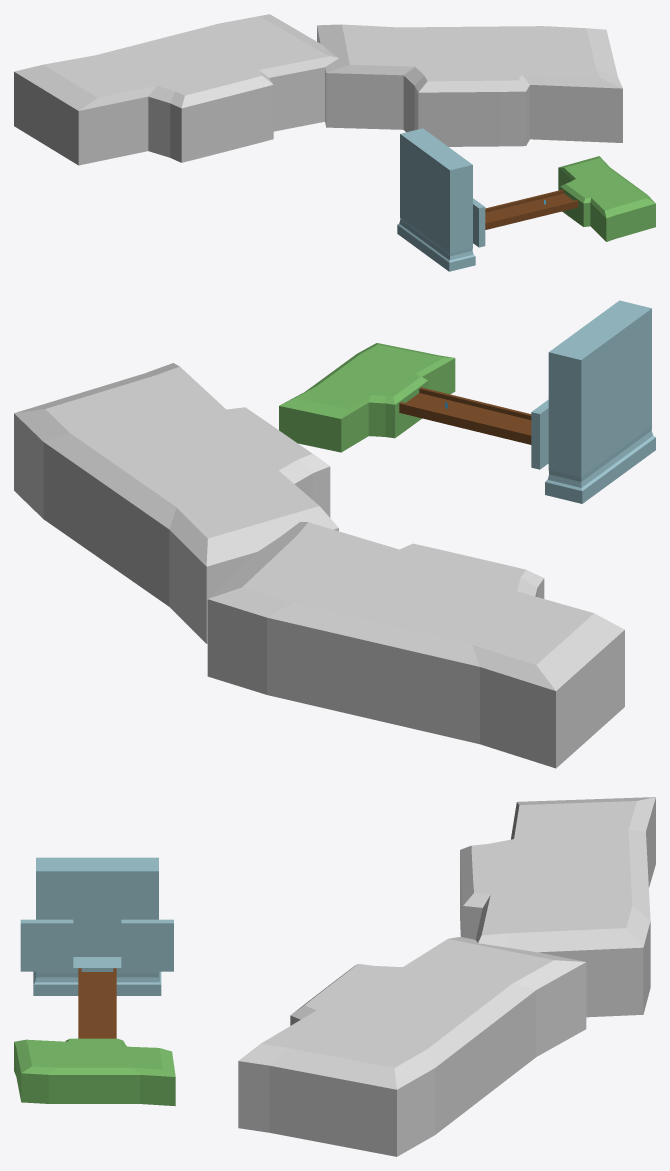
The model's file is ch1_overworld_env.glb.
3 renders of one model, top to bottom at view 1: azimuth 30°, elevation 25°; view 2: azimuth 150°, elevation 25°; view 3: azimuth 270°, elevation 25°, orthographic. The views are drawn at different scales.
Parts seen in each view (by area): view 1: BG_2, BG_1, Entrance, Land, Bridge; view 2: BG_2, BG_1, Entrance, Land, Bridge; view 3: BG_1, BG_2, Entrance, Land, Bridge.
Part boxes in pixels (bbox=[...]): BG_2: bbox=[14, 14, 338, 165]; BG_1: bbox=[317, 24, 622, 146]; Entrance: bbox=[397, 128, 485, 271]; Land: bbox=[558, 156, 655, 241]; Bridge: bbox=[485, 189, 578, 229]; BG_2: bbox=[207, 522, 624, 768]; BG_1: bbox=[14, 363, 338, 643]; Entrance: bbox=[531, 300, 655, 503]; Land: bbox=[279, 343, 455, 452]; Bridge: bbox=[399, 387, 531, 444]; BG_1: bbox=[238, 937, 586, 1156]; BG_2: bbox=[460, 797, 655, 1017]; Entrance: bbox=[20, 857, 173, 995]; Land: bbox=[14, 1038, 175, 1106]; Bridge: bbox=[78, 968, 116, 1038].
Size of the model in its own units: 468 by 92.83 by 434.
